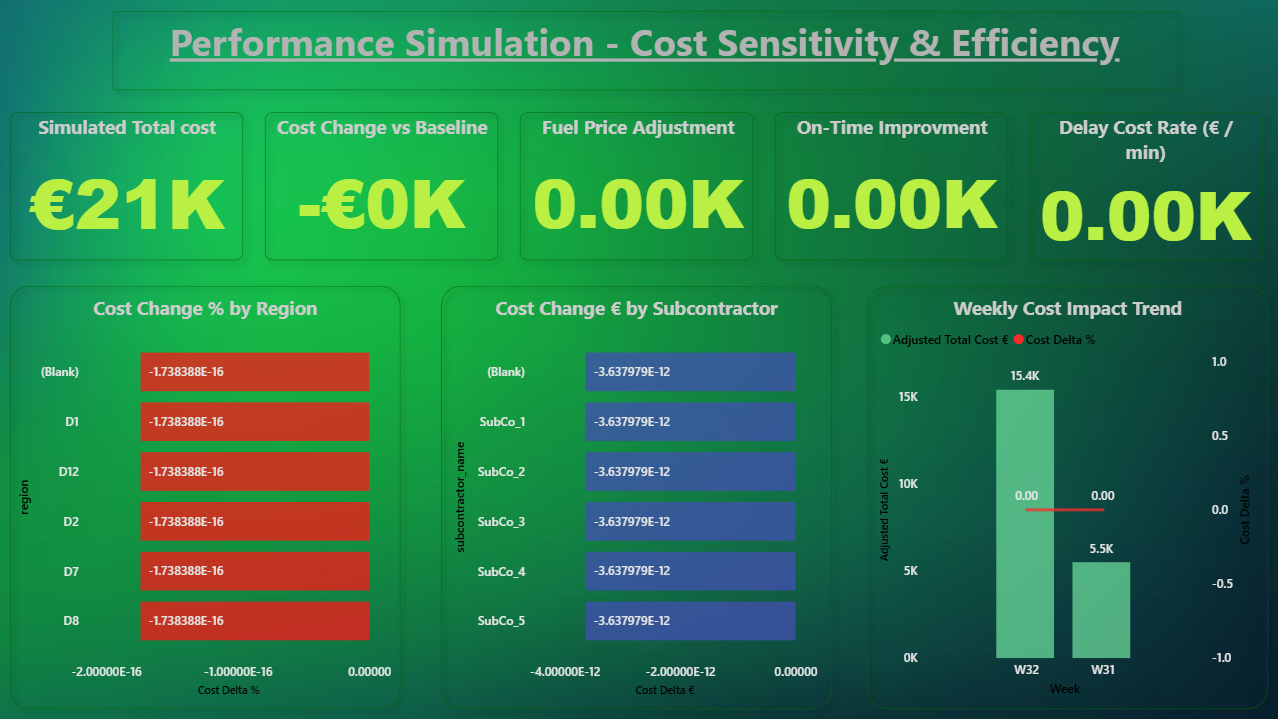

Layout of this report page (visuals, bound fields, positions):
{"tool":"powerbi","page":{"name":"Page 2","canvas":[1280,720],"ordinal":5},"visuals":[{"type":"shape","box":[0,101.2,255,170],"z":0},{"type":"shape","box":[255,101.2,255,170],"z":1000},{"type":"shape","box":[510,101.2,255,170],"z":2000},{"type":"shape","box":[765,101.2,255,170],"z":3000},{"type":"shape","box":[1020,101.2,255,170],"z":4000},{"type":"shape","box":[0,275,412.5,445],"z":5000},{"type":"shape","box":[857.5,275,422.5,445],"z":6000},{"type":"shape","box":[102.5,0,1087.5,101.2],"z":7000},{"type":"card","title":"Simulated Total cost","fields":{"Values":["_ Measures.Adjusted Total Cost €"]},"box":[15,113.8,226.2,145],"z":8000},{"type":"card","title":"Cost Change vs Baseline","fields":{"Values":["_ Measures.Cost Delta €"]},"box":[270,113.8,226.2,145],"z":9000},{"type":"card","title":"Fuel Price Adjustment","fields":{"Values":["_ Measures.Fuel Multiplier (Sel)"]},"box":[526.2,113.8,226.2,145],"z":10000},{"type":"card","title":"On-Time Improvment","fields":{"Values":["_ Measures.OnTime Improvement (Sel)"]},"box":[778.8,113.8,228.8,145],"z":11000},{"type":"card","title":"Delay Cost Rate (€ / min)","fields":{"Values":["_ Measures.Delay Cost €/min (Sel)"]},"box":[1032.5,113.8,228.8,145],"z":12000},{"type":"barChart","title":"Cost Change % by Region","fields":{"Category":["ops v_routes_enriched.region"],"Y":["_ Measures.Cost Delta %"]},"box":[15,295,382.5,406.2],"z":13000},{"type":"lineStackedColumnComboChart","title":"Weekly Cost Impact Trend","fields":{"Category":["Date.Week"],"Y":["_ Measures.Adjusted Total Cost €"],"Y2":["_ Measures.Cost Delta %"]},"box":[876.2,295,385,406.2],"z":14000},{"type":"shape","box":[431.2,275,412.5,445],"z":15000},{"type":"barChart","title":"Cost Change € by Subcontractor","fields":{"Category":["ops v_routes_enriched.subcontractor_name"],"Y":["_ Measures.Cost Delta €"]},"box":[451.2,295,372.5,406.2],"z":16000},{"type":"textbox","box":[121.2,11.2,1048.8,80],"z":17000}]}

Visuals, with their boxes in screenshot pixels (x1, y1, x2, y2), scaled from the page's 1280x720 canvas onto the 1278x719 screenshot:
shape: <box>0,101,255,271</box>
shape: <box>255,101,509,271</box>
shape: <box>509,101,764,271</box>
shape: <box>764,101,1018,271</box>
shape: <box>1018,101,1273,271</box>
shape: <box>0,275,412,718</box>
shape: <box>856,275,1277,718</box>
shape: <box>102,0,1188,101</box>
"Simulated Total cost" card: <box>15,114,241,258</box>
"Cost Change vs Baseline" card: <box>270,114,495,258</box>
"Fuel Price Adjustment" card: <box>525,114,751,258</box>
"On-Time Improvment" card: <box>778,114,1006,258</box>
"Delay Cost Rate (€ / min)" card: <box>1031,114,1259,258</box>
"Cost Change % by Region" barChart: <box>15,295,397,700</box>
"Weekly Cost Impact Trend" lineStackedColumnComboChart: <box>875,295,1259,700</box>
shape: <box>431,275,842,718</box>
"Cost Change € by Subcontractor" barChart: <box>450,295,822,700</box>
textbox: <box>121,11,1168,91</box>
